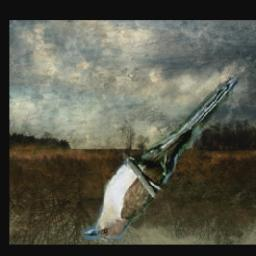Cuckoo: (80, 70, 242, 243)
